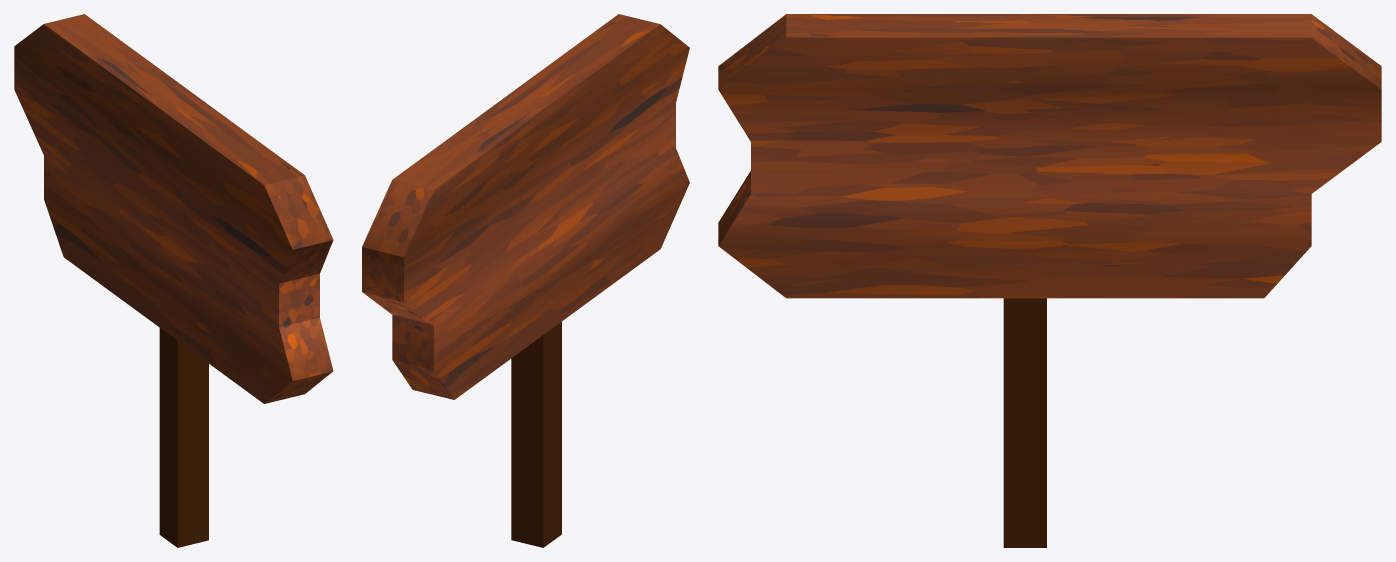
Rendered from Sign.fbx.
The picture shows the model from 3 angles, left to right: view 1: azimuth 30°, elevation 25°; view 2: azimuth 150°, elevation 25°; view 3: azimuth 270°, elevation 25°; orthographic projection. The views are drawn at different scales.
Visible parts, largest first — view 1: Cube; view 2: Cube; view 3: Cube.
Boxes of the visible parts, <box> form: Cube: <box>14,14,333,547</box>; Cube: <box>362,14,689,547</box>; Cube: <box>718,14,1381,547</box>.
Size of the model in its own units: 44.04 by 445 by 521.
1 material, 1 textured.
